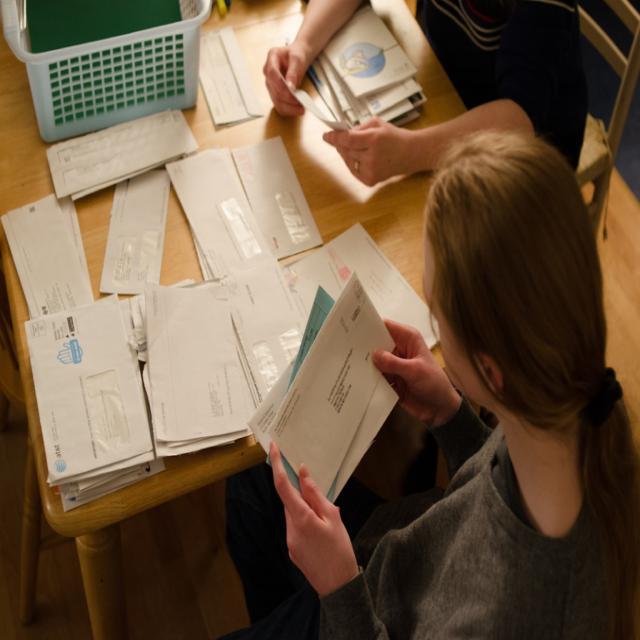chair: (574, 2, 639, 242)
desk: (2, 2, 467, 634)
person: (239, 123, 639, 635), (259, 0, 592, 182)
